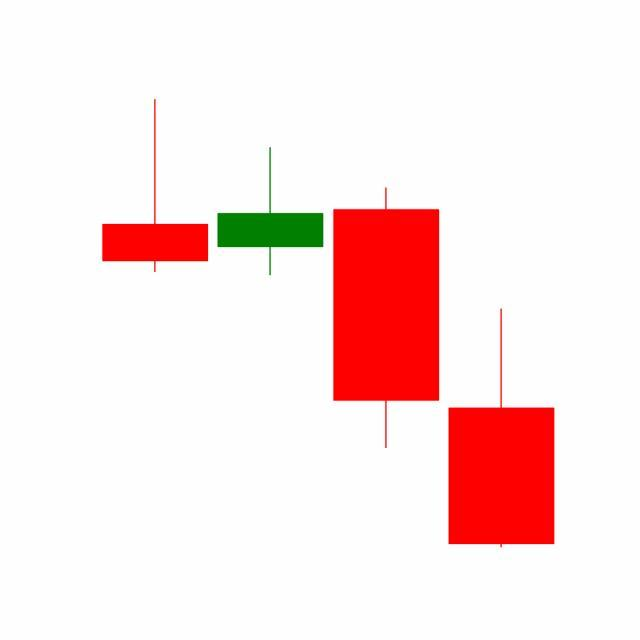Three Outside Up-Down: (211, 143, 555, 549)
